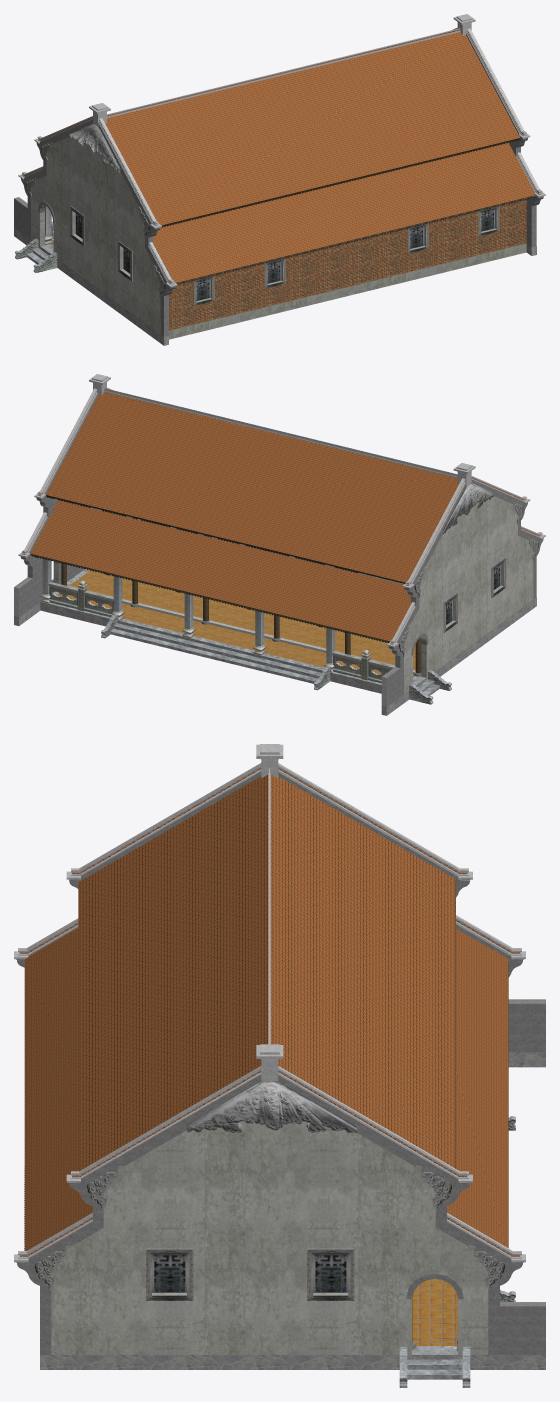
Rendered from mediumHouse.fbx.
The picture shows the model from 3 angles, top to bottom: view 1: azimuth 30°, elevation 25°; view 2: azimuth 150°, elevation 25°; view 3: azimuth 270°, elevation 25°; orthographic projection. The views are drawn at different scales.
Visible parts, largest first — view 1: G-Object.656; view 2: G-Object.656; view 3: G-Object.656.
Boxes of the visible parts, x1,y1,x2,y2 form: G-Object.656: (14,14,545,345); G-Object.656: (14,374,545,715); G-Object.656: (14,744,545,1387).
Bounding box in the file's own units: 2113 × 916 × 1387.
30 materials, 28 textured.
